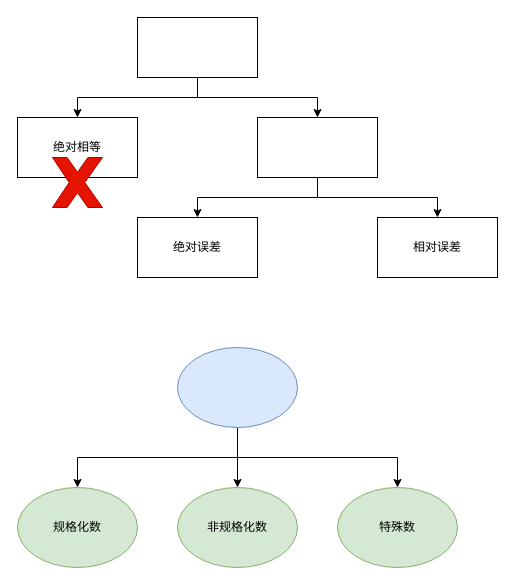
This 515x585 diagram has some shape labels left out. The centre of each missing label's shape, as x and y in pixels:
"浮点数分类" goes at (x=237, y=387).
"浮点数比较" goes at (x=197, y=47).
"近似相等" goes at (x=317, y=147).
